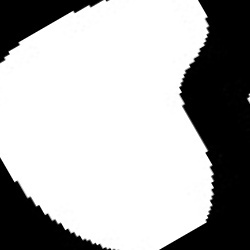spot: (1, 1, 215, 249)
